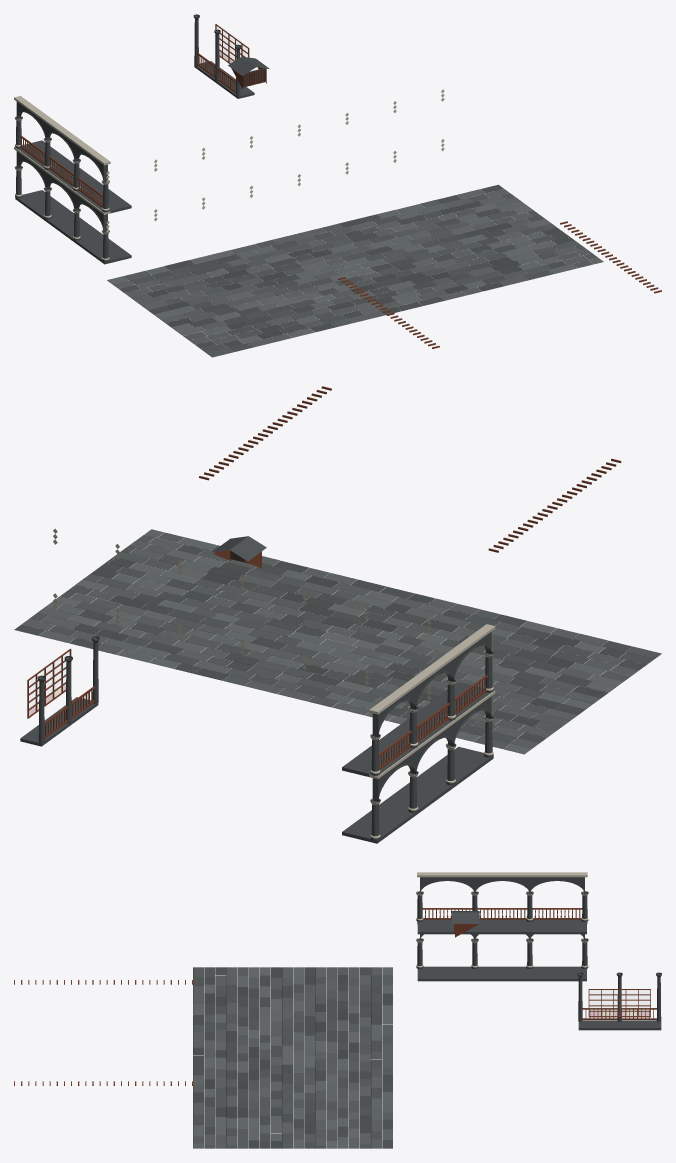
Rendered from zunyi-gallery-web.glb.
The picture shows the model from 3 angles, top to bottom: view 1: azimuth 30°, elevation 25°; view 2: azimuth 150°, elevation 25°; view 3: azimuth 270°, elevation 25°; orthographic projection. The views are drawn at different scales.
Visible parts, largest first — view 1: CourtyardFlagstones.005, WestGallery.007; view 2: CourtyardFlagstones.005, WestGallery.007; view 3: CourtyardFlagstones.005, WestGallery.007.
Part boxes in pixels (x1,y1,x2,y2): CourtyardFlagstones.005: [107, 184, 603, 357]; WestGallery.007: [14, 14, 661, 348]; CourtyardFlagstones.005: [14, 529, 661, 754]; WestGallery.007: [20, 386, 621, 843]; CourtyardFlagstones.005: [193, 967, 392, 1148]; WestGallery.007: [14, 872, 661, 1085].
Size of the model in its own units: 29.48 by 10.52 by 44.56.
